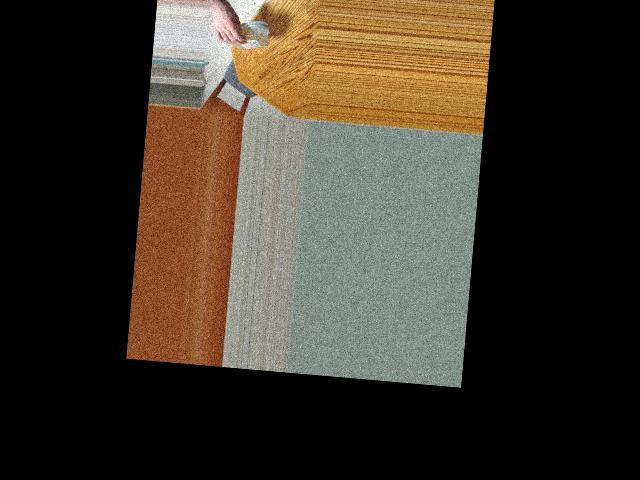cheese: (222, 15, 262, 51)
